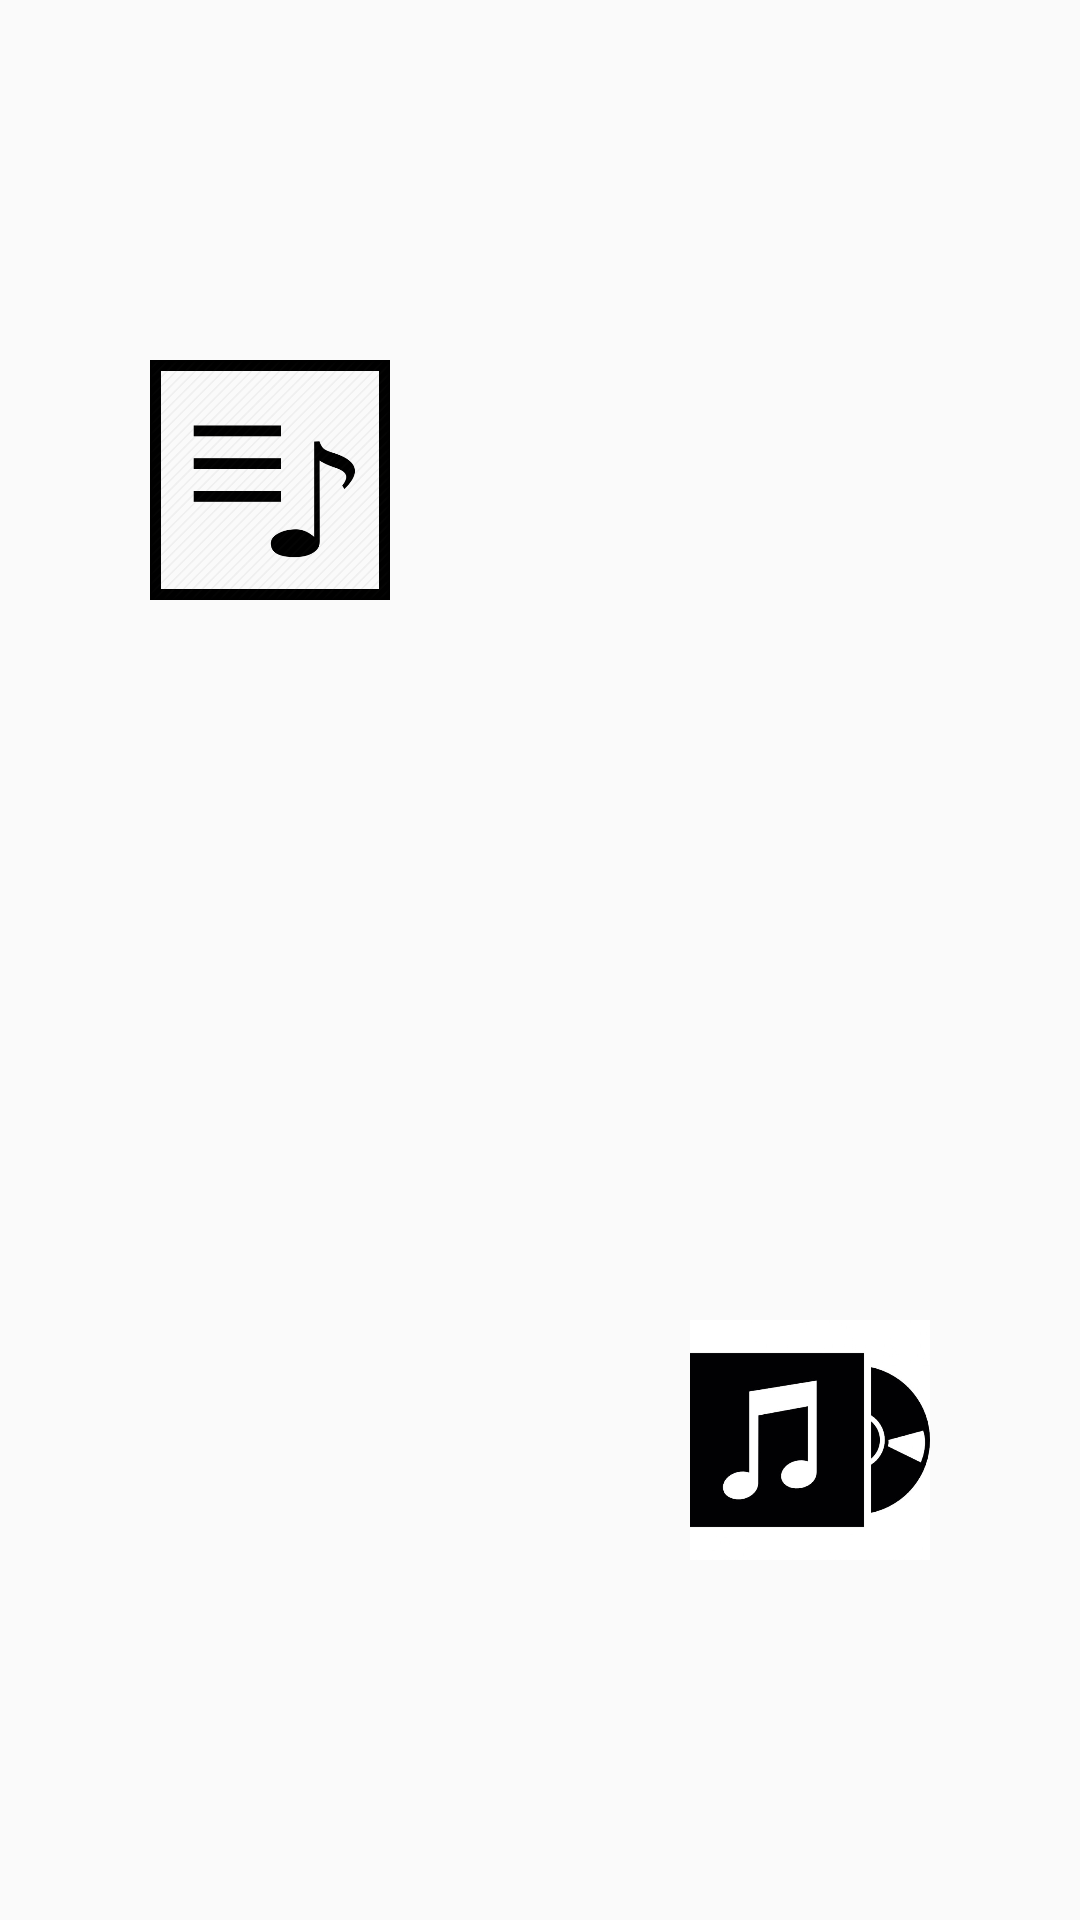

Where icons sit on this 1080 × 1920 app screen, as (x1, y1, x2, y2):
album: (690, 1353, 930, 1527)
playlist: (150, 360, 390, 600)
